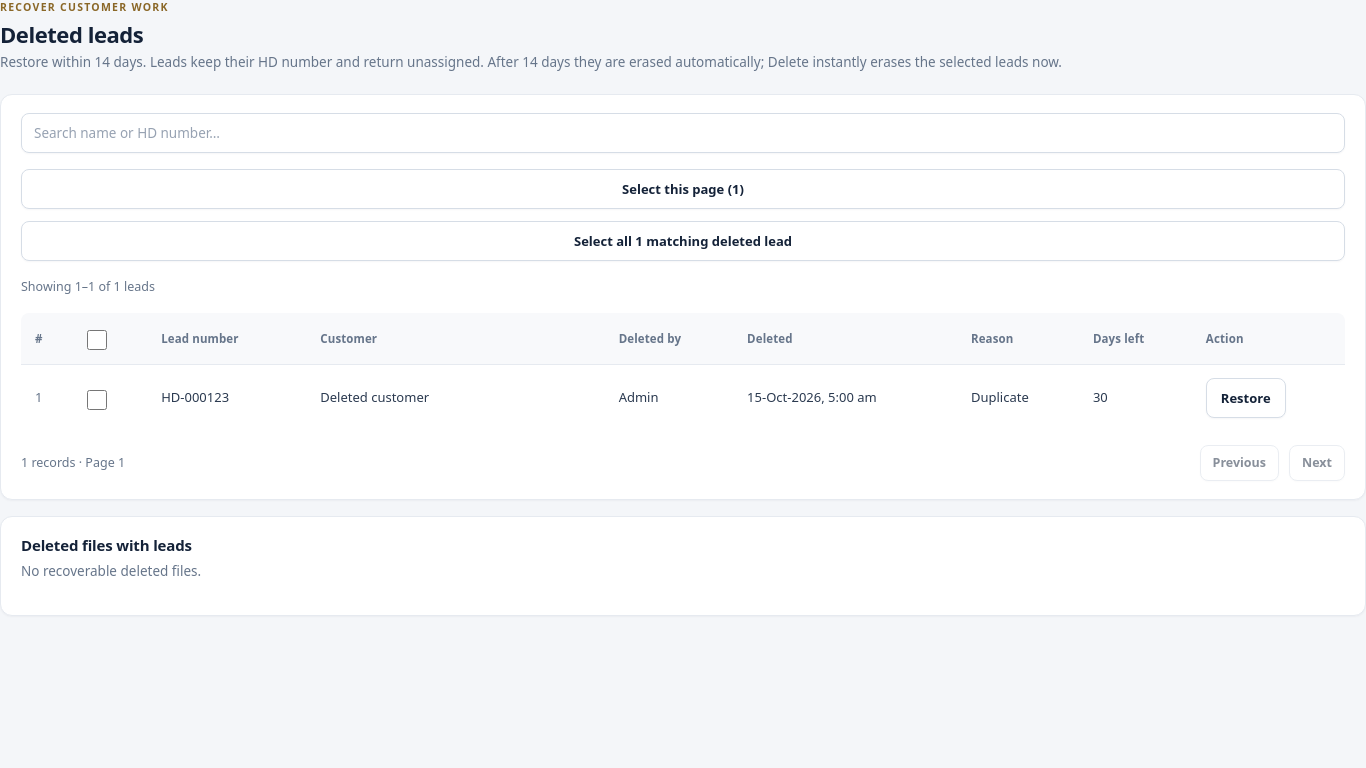
Test case: deleted lead controls › deletes the selected leads instantly only after DELETE is typed (update 069)
The width and height of the screenshot is (1366, 768).
Click the checkbox named "Select Deleted customer" at (97, 400), box [87,390,107,410]
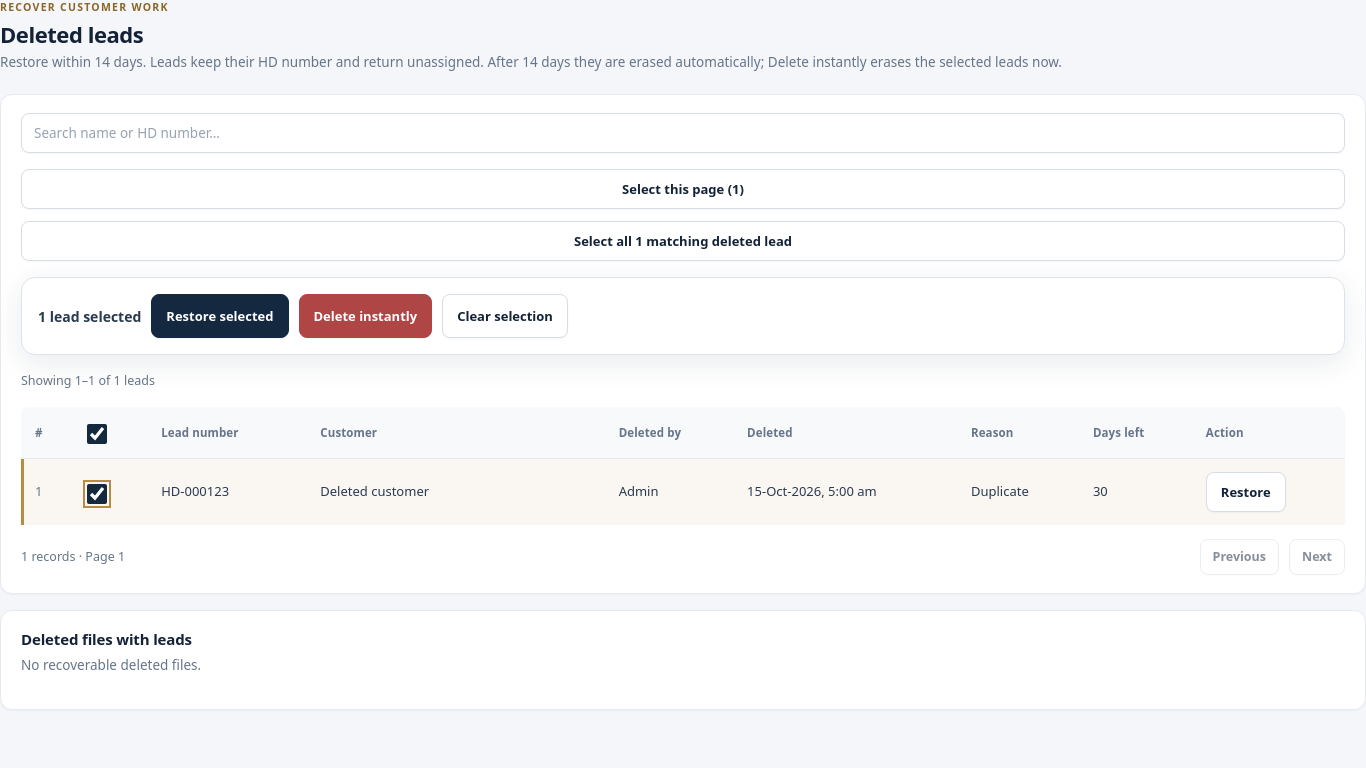
Click the button "Delete instantly" at (365, 316), box [298,294,432,338]
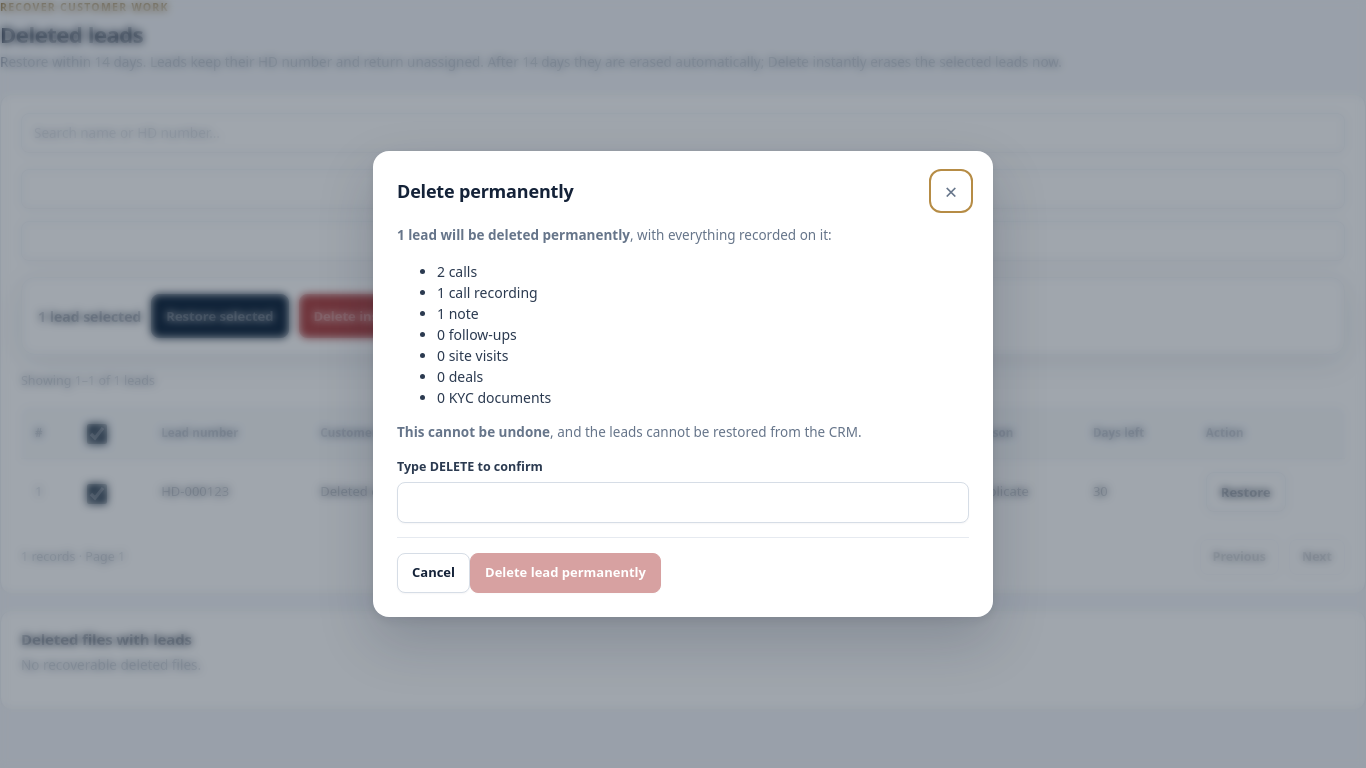
Now the text "1 lead will be deleted permanently" is shown, box [397,226,630,244]
Now the dialog "Delete permanently" shows "2 calls", box [437,262,477,281]
Now the dialog "Delete permanently" shows "This cannot be undone", box [397,423,550,441]
Type "delete" into the field labelled "Type DELETE to confirm" at (683, 502), box [397,482,969,523]
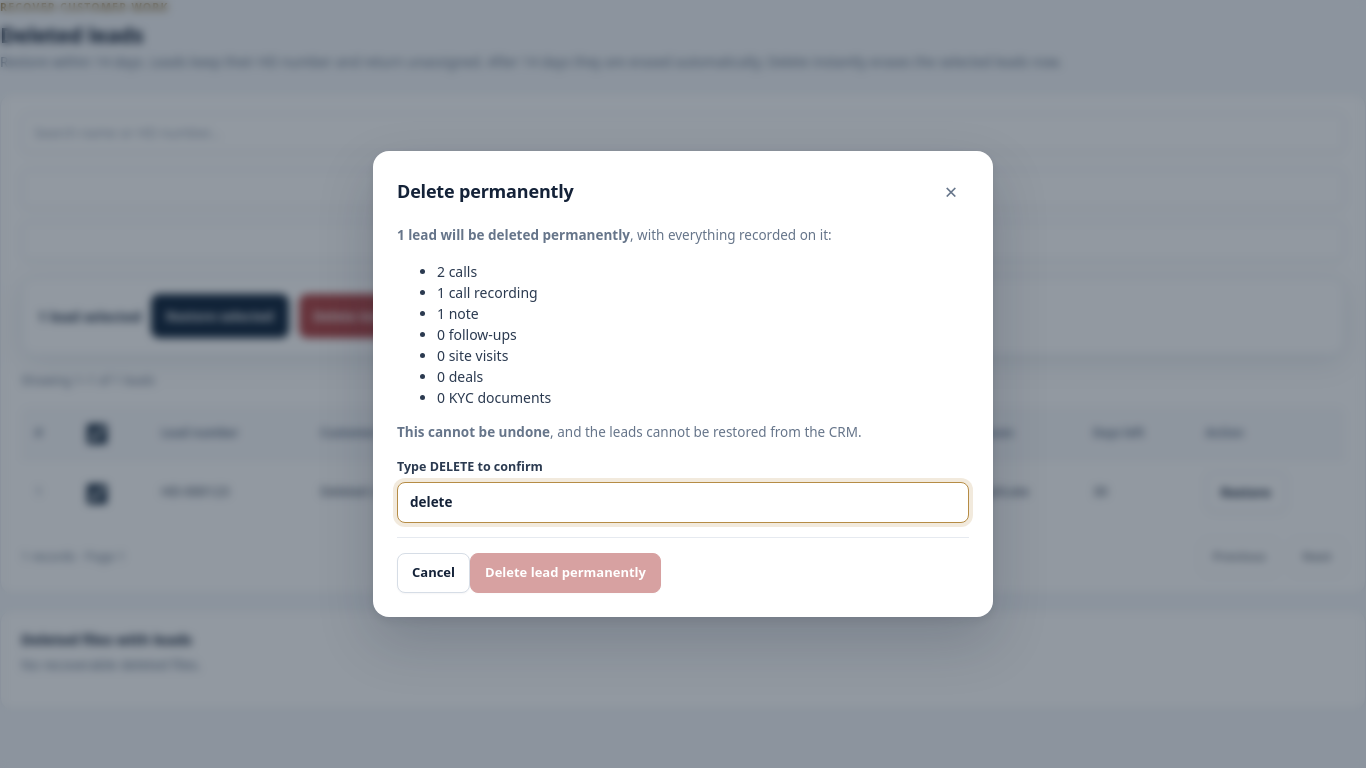
Now the button "Delete lead permanently" is disabled, box [470,553,661,593]
Replace the text in the field labelled "Type DELETE to confirm" with "DELETE" at (683, 502), box [397,482,969,523]
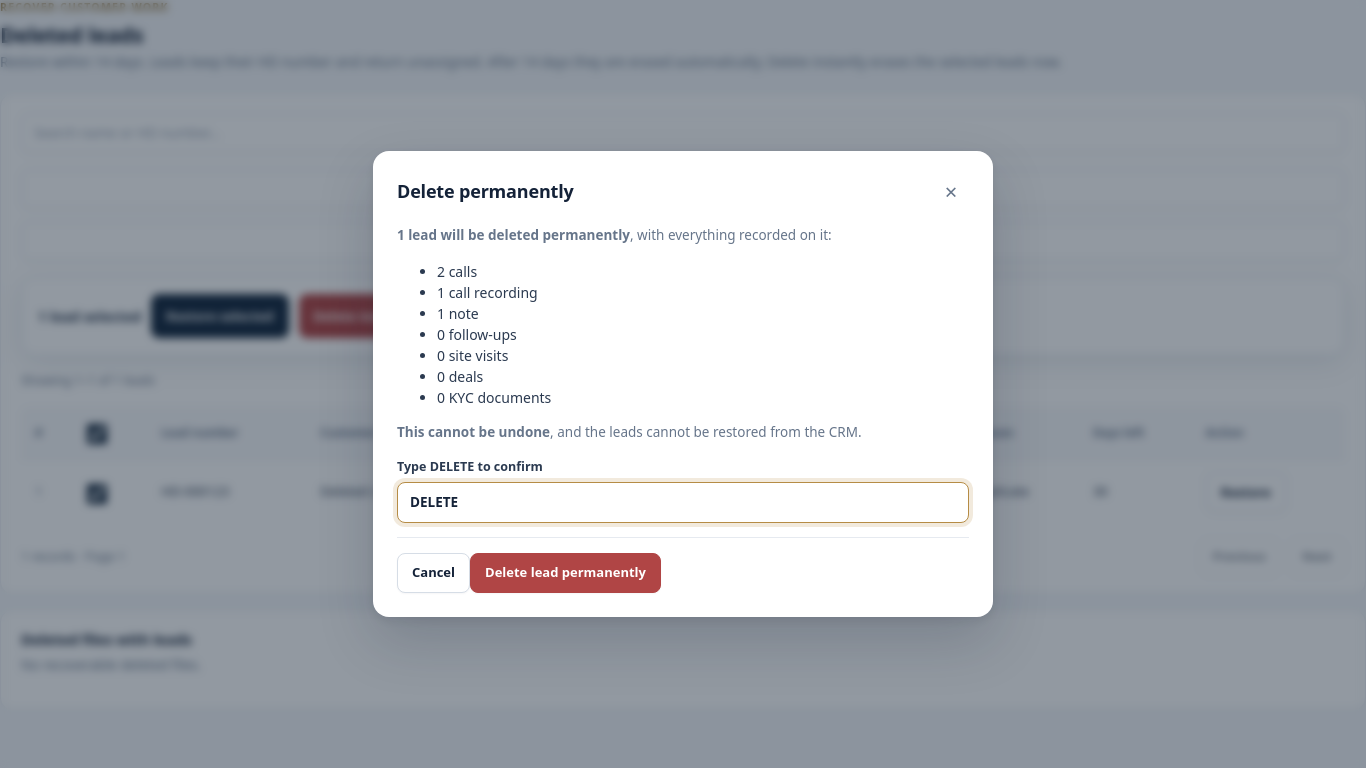
Click the button "Delete lead permanently" at (566, 573), box [470,553,661,593]
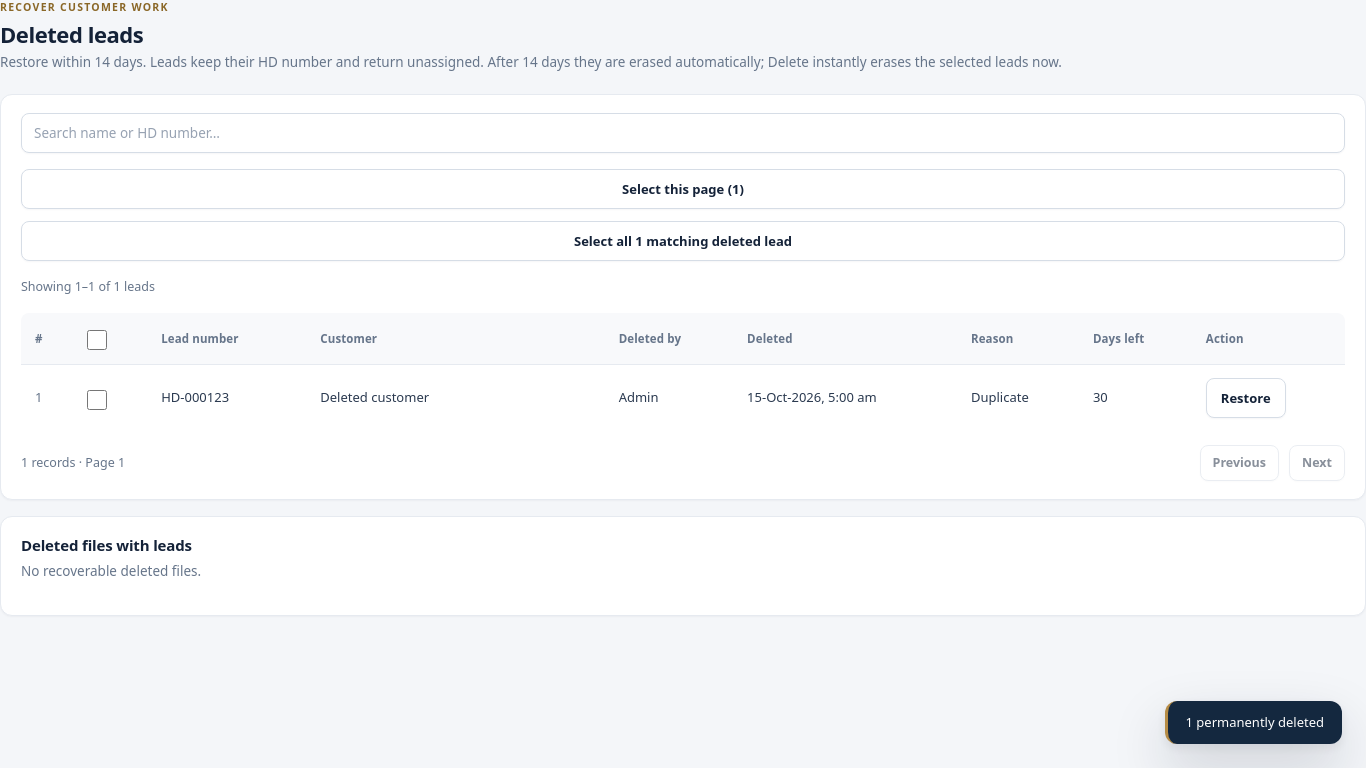
Now the text "1 permanently deleted" is shown, box [1164,700,1342,744]
Now the heading "Delete permanently" is gone
